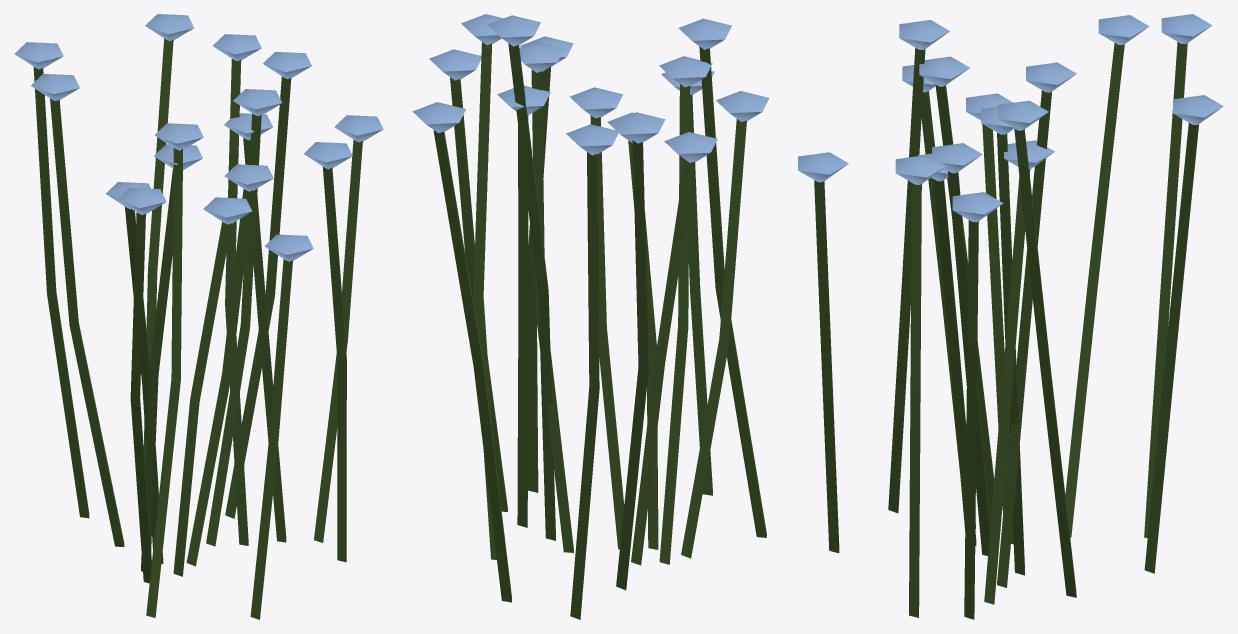
The model's file is Flax.fbx.
3 views of the same model, side by side, from view 1: azimuth 30°, elevation 25°; view 2: azimuth 150°, elevation 25°; view 3: azimuth 270°, elevation 25° (orthographic). The views are drawn at different scales.
Visible parts, largest first — view 1: Flax; view 2: Flax; view 3: Flax.
Part boxes in pixels (box(x1,y1,x2,y2)): Flax: box(14, 14, 383, 619); Flax: box(412, 14, 769, 619); Flax: box(798, 14, 1223, 619).
Bounding box in the file's own units: 0.6254 × 1.03 × 0.7554.
